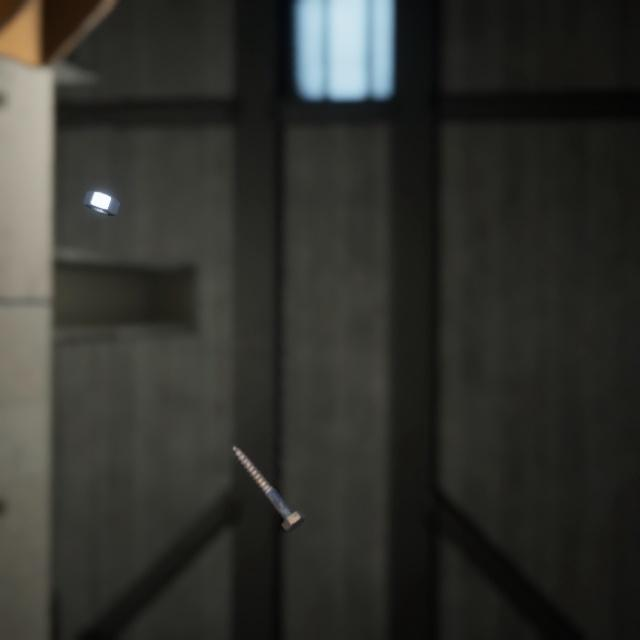bolt: (228, 419, 310, 514)
nut: (78, 171, 125, 205)
